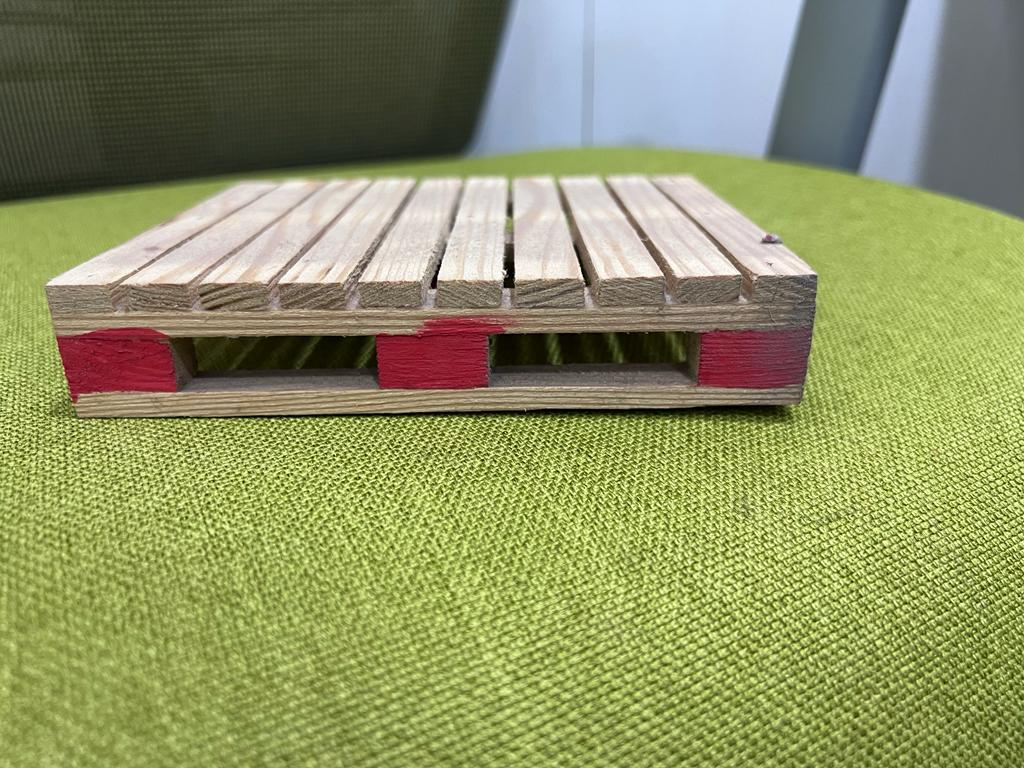pallet: (30, 146, 836, 418)
